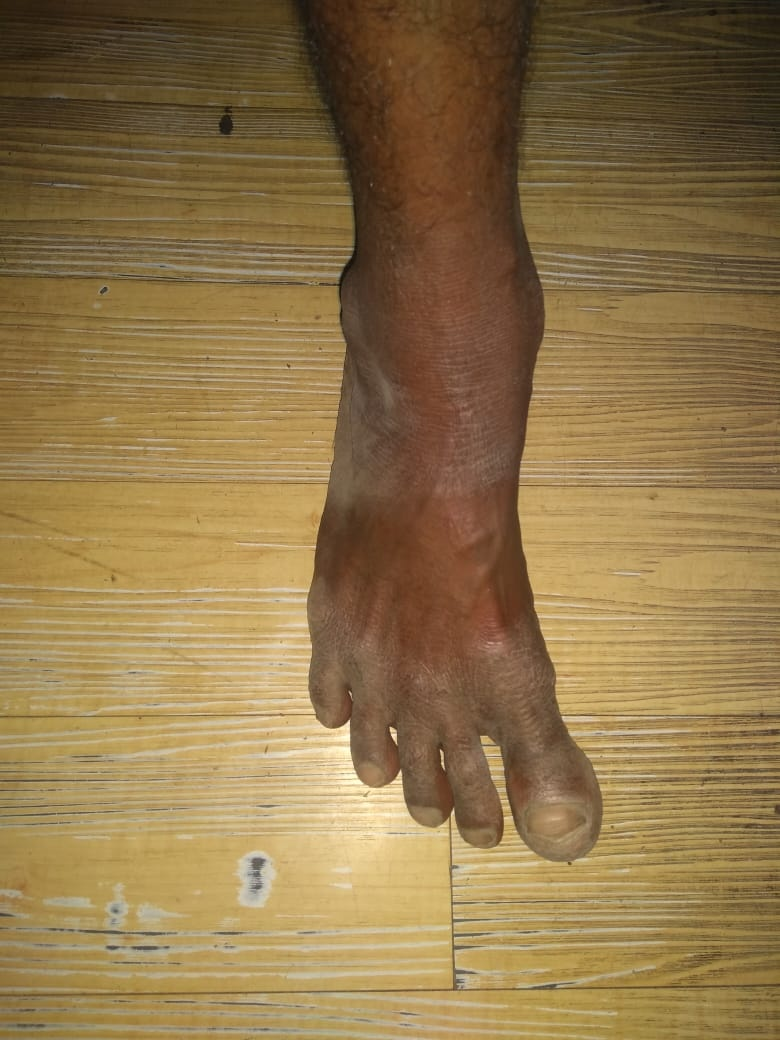feet: (209, 183, 606, 867)
